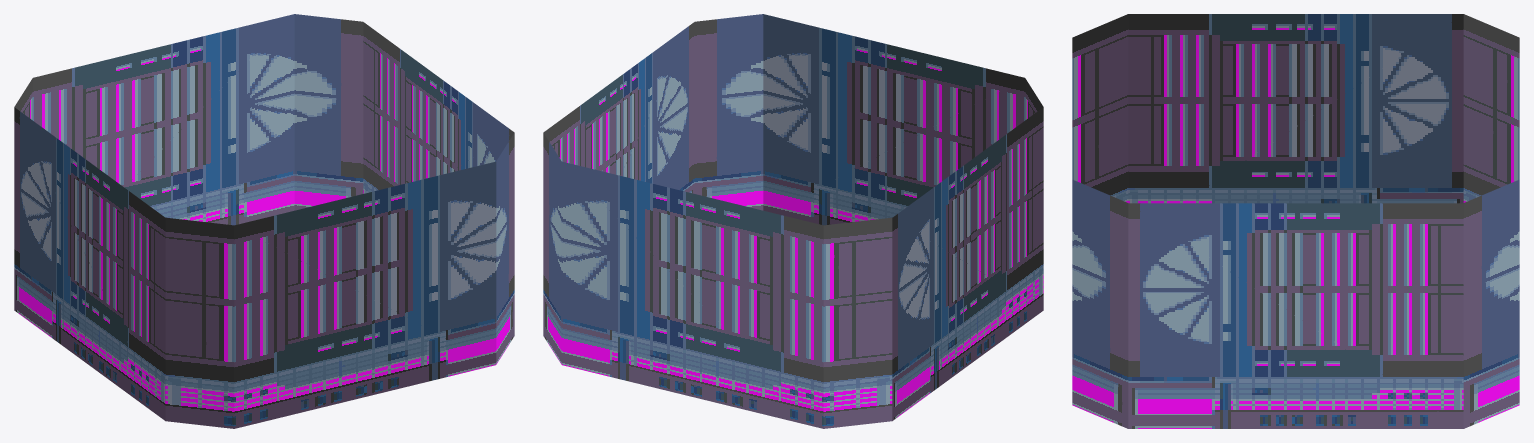
The picture shows the model from 3 angles, left to right: view 1: azimuth 30°, elevation 25°; view 2: azimuth 150°, elevation 25°; view 3: azimuth 270°, elevation 25°; orthographic projection. The views are drawn at different scales.
Parts seen in each view (by area): view 1: obj-111; view 2: obj-111; view 3: obj-111.
Boxes of the visible parts, bbox=[...] form: obj-111: bbox=[14, 14, 514, 428]; obj-111: bbox=[543, 14, 1043, 428]; obj-111: bbox=[1072, 14, 1519, 428].
Bounding box in the file's own units: 3.45 × 1.92 × 3.45.
1 material, 1 textured.
